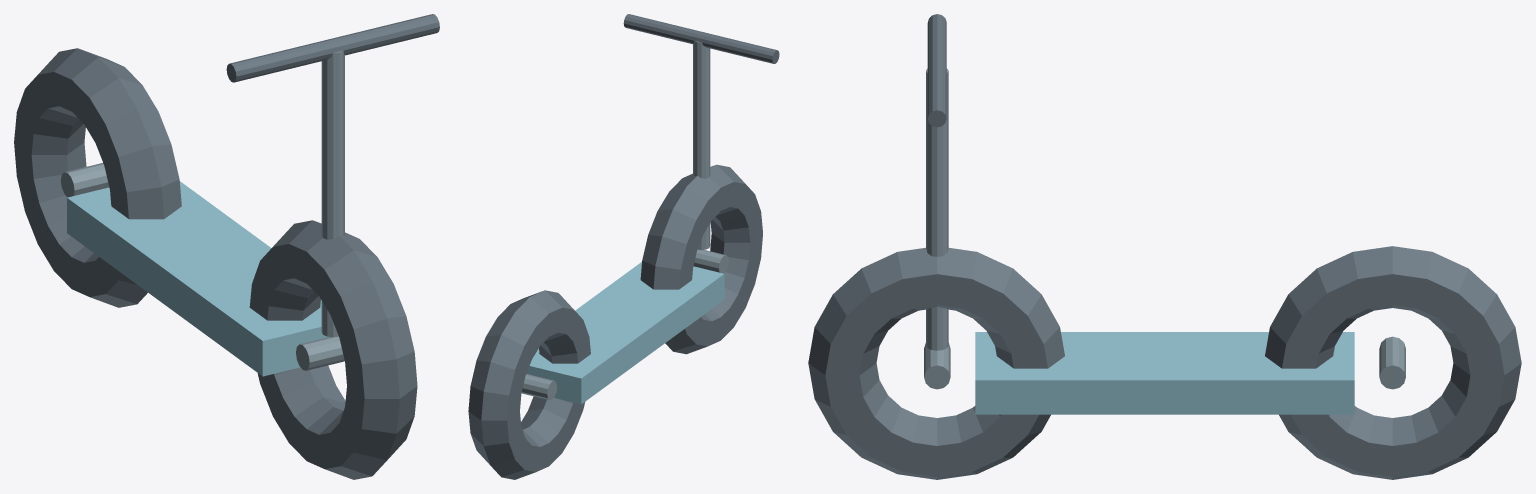
Rendered from scooter.glb.
3 views of the same model, side by side, from view 1: azimuth 30°, elevation 25°; view 2: azimuth 150°, elevation 25°; view 3: azimuth 270°, elevation 25° (orthographic). The views are drawn at different scales.
Visible parts, largest first — view 1: scooter_000, scooter_002, scooter_004, scooter_005, scooter_006, scooter_001, scooter_003; view 2: scooter_002, scooter_000, scooter_004, scooter_005, scooter_006, scooter_003, scooter_001; view 3: scooter_002, scooter_000, scooter_004, scooter_005, scooter_006, scooter_003, scooter_001.
Boxes of the visible parts, box(x1,y1,x2,y2) form: scooter_000: box(249, 220, 417, 479); scooter_002: box(14, 48, 181, 307); scooter_004: box(67, 181, 328, 376); scooter_005: box(321, 50, 344, 337); scooter_006: box(226, 14, 439, 82); scooter_001: box(296, 336, 344, 370); scooter_003: box(61, 163, 109, 197); scooter_002: box(468, 290, 590, 479); scooter_000: box(640, 164, 762, 354); scooter_004: box(526, 262, 724, 404); scooter_005: box(693, 40, 710, 249); scooter_006: box(623, 14, 779, 63); scooter_003: box(521, 374, 557, 400); scooter_001: box(693, 249, 728, 273); scooter_002: box(1265, 246, 1521, 479); scooter_000: box(808, 247, 1064, 479); scooter_004: box(975, 332, 1354, 414); scooter_005: box(926, 68, 948, 350); scooter_006: box(927, 14, 946, 127); scooter_003: box(1379, 336, 1405, 389); scooter_001: box(924, 343, 950, 389).
Bounding box in the file's own units: 0.6 × 1.22 × 1.88.
